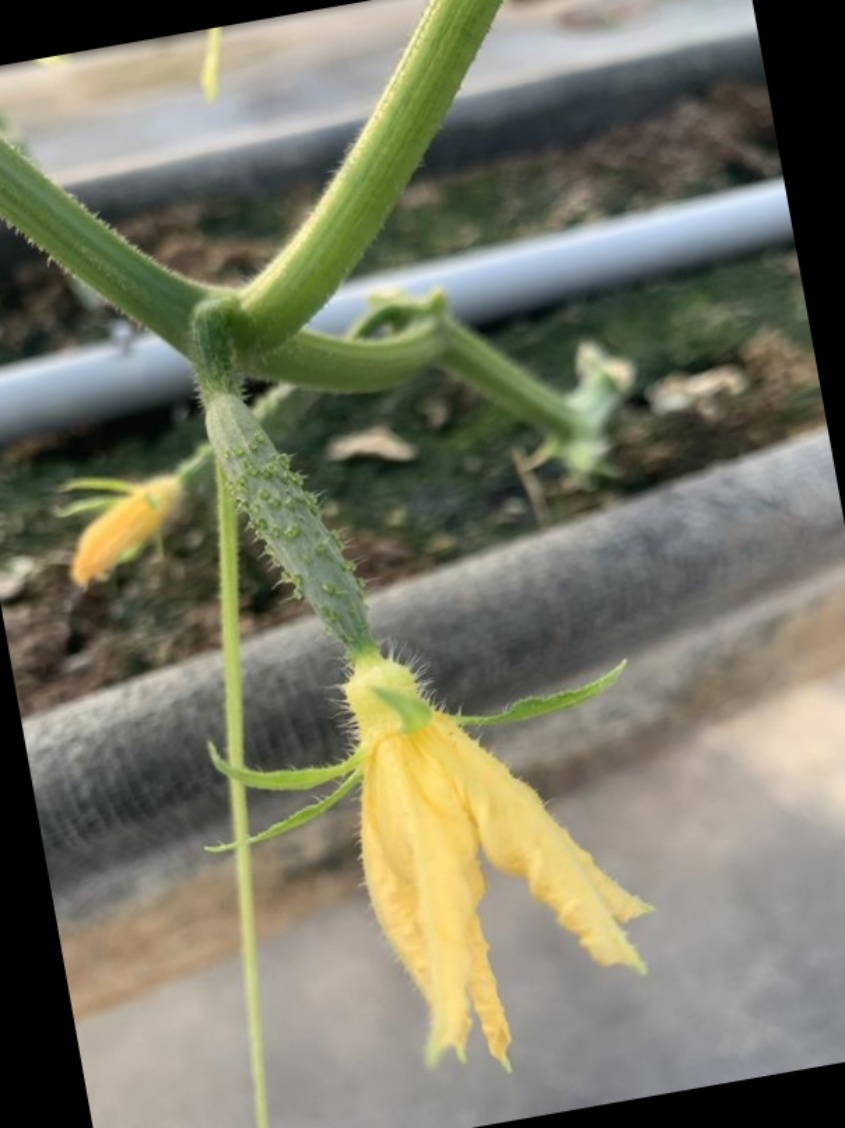bear: (147, 341, 681, 1080)
